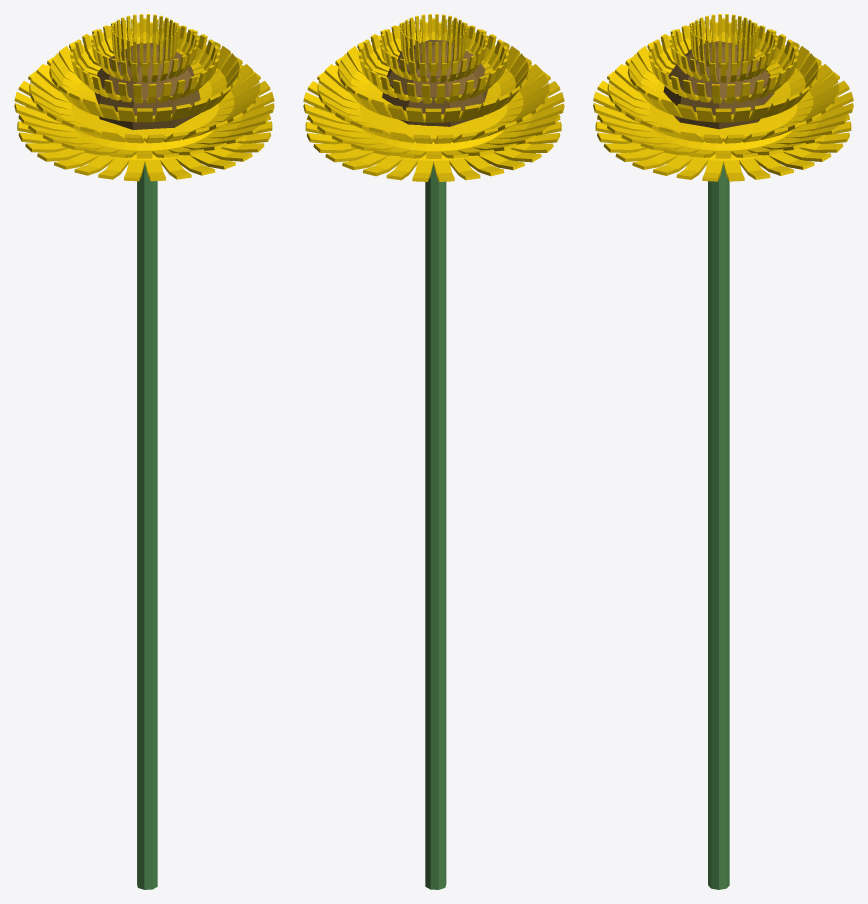
Rendered from dandelion.gltf.
3 views of the same model, side by side, from view 1: azimuth 30°, elevation 25°; view 2: azimuth 150°, elevation 25°; view 3: azimuth 270°, elevation 25° (orthographic).
Parts seen in each view (by area): view 1: node-0; view 2: node-0; view 3: node-0.
Part boxes in pixels (x1,y1,x2,y2): node-0: (14,14,274,889); node-0: (303,14,564,889); node-0: (593,14,853,889).
Bounding box in the file's own units: 1.03 × 3.73 × 1.03.
